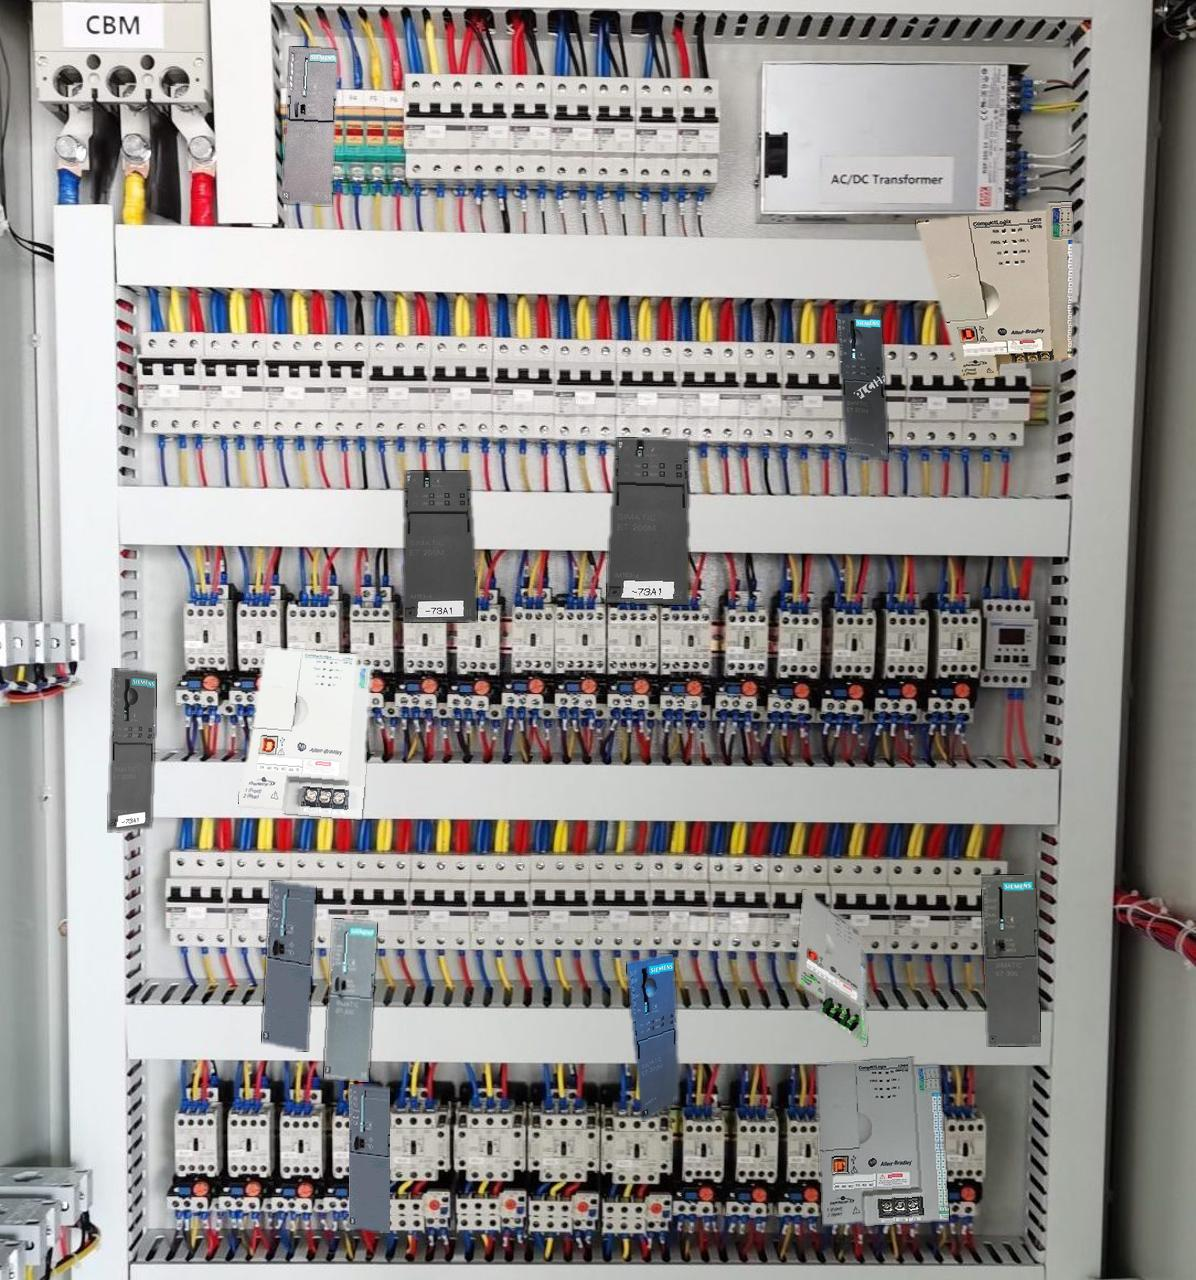AllenBradley: (916, 202, 1072, 379), (238, 647, 371, 818), (817, 1057, 948, 1225), (797, 890, 866, 1045)
Siemens: (981, 874, 1040, 1046), (262, 881, 315, 1050), (282, 46, 337, 205), (324, 919, 377, 1081), (348, 1084, 389, 1232)
